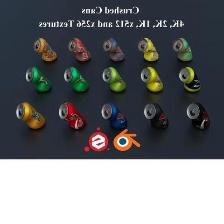can: (51, 98, 89, 134), (12, 99, 49, 134), (139, 97, 171, 134), (181, 99, 214, 132), (97, 99, 128, 133), (175, 64, 207, 95), (29, 35, 63, 64), (22, 65, 53, 96), (60, 64, 91, 95), (98, 64, 130, 94), (136, 65, 165, 95), (134, 35, 163, 63), (66, 34, 93, 64), (99, 36, 126, 64), (170, 34, 194, 62)
